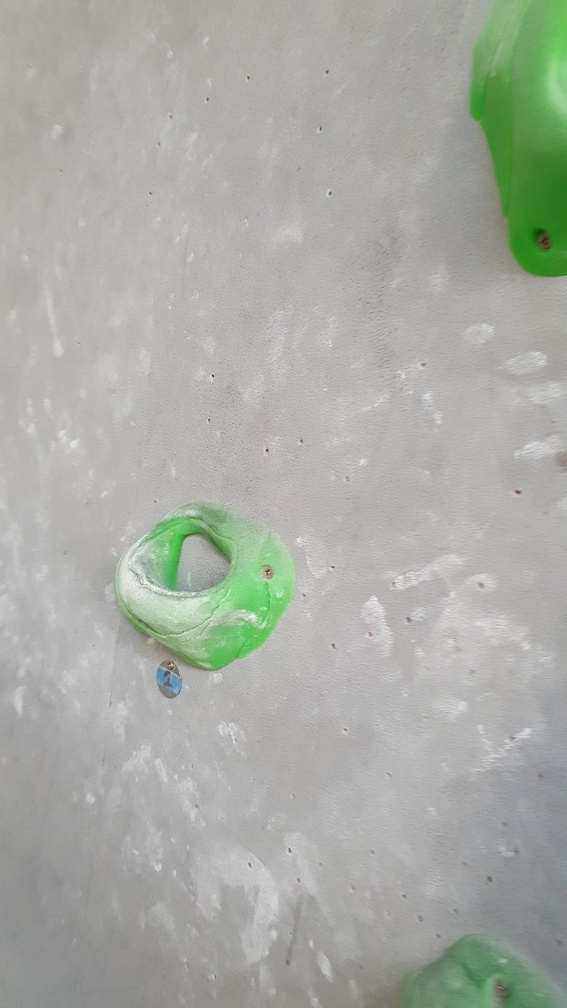Hand Start: (149, 659, 191, 704)
Pocket: (110, 495, 297, 672)
